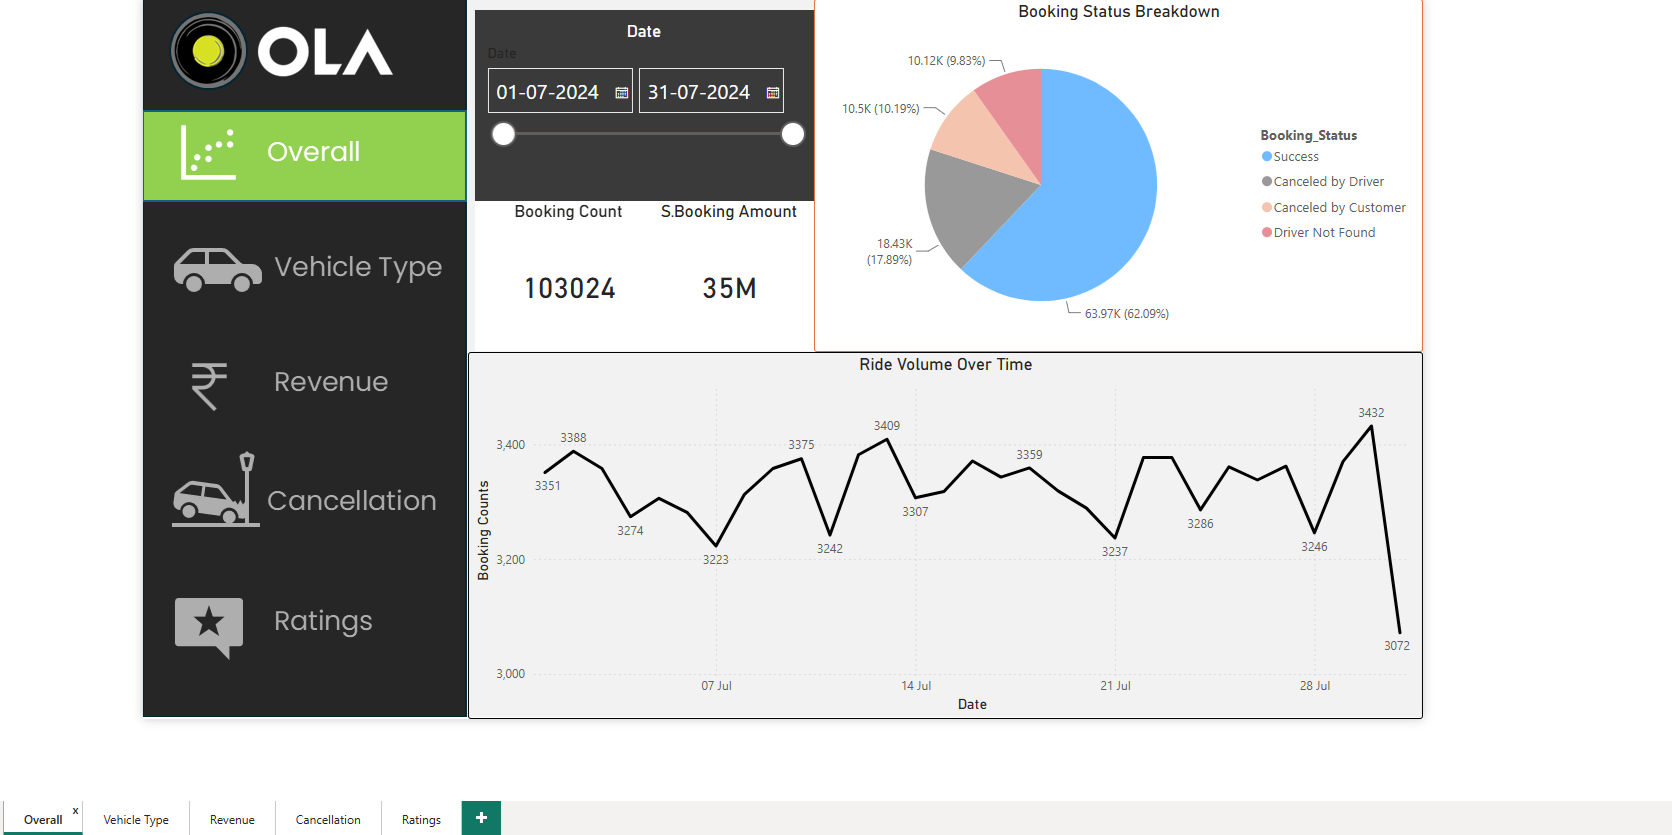

This screenshot's page, from the dashboard's own definition file:
{"tool":"powerbi","page":{"name":"Overall","canvas":[1280,720],"ordinal":0},"visuals":[{"type":"actionButton","box":[0,202.1,324.1,128.9],"z":0},{"type":"actionButton","box":[0,331,324.1,101.1],"z":1000},{"type":"actionButton","box":[0,432.1,324.1,131.3],"z":2000},{"type":"actionButton","box":[0,563.3,324.1,131.3],"z":3000},{"type":"lineChart","title":"Ride Volume Over Time","fields":{"Category":["Bookings-100000-Rows.Date"],"Y":["CountNonNull(Bookings-100000-Rows.Booking_ID)"]},"box":[324.5,352.8,955.5,366.9],"z":4000},{"type":"pieChart","title":"Booking Status Breakdown","fields":{"Category":["Bookings-100000-Rows.Booking_Status"],"Y":["CountNonNull(Bookings-100000-Rows.Booking_Status)"]},"box":[671.3,0,608.7,352.9],"z":5000},{"type":"slicer","title":"Date","fields":{"Values":["Bookings-100000-Rows.Date"]},"box":[332.4,10.8,338.9,191],"z":6000},{"type":"card","title":"Booking Count","fields":{"Values":["Count(Bookings-100000-Rows.Booking_ID)"]},"box":[332.4,201.8,187.8,150],"z":7000},{"type":"card","title":"S.Booking Amount ","fields":{"Values":["Sum(Bookings-100000-Rows.Booking_Value)"]},"box":[501.9,201.8,169.4,150],"z":8000}]}

Visuals, with their boxes on the page's 1280x720 design canvas (x1, y1, x2, y2). These are canvas units, not pixel positions in the 1672x835 screenshot, which may show the page scaled, cropped or inside an application window:
actionButton: {"x1": 0, "y1": 202, "x2": 324, "y2": 331}
actionButton: {"x1": 0, "y1": 331, "x2": 324, "y2": 432}
actionButton: {"x1": 0, "y1": 432, "x2": 324, "y2": 563}
actionButton: {"x1": 0, "y1": 563, "x2": 324, "y2": 695}
"Ride Volume Over Time" lineChart: {"x1": 324, "y1": 353, "x2": 1280, "y2": 720}
"Booking Status Breakdown" pieChart: {"x1": 671, "y1": 0, "x2": 1280, "y2": 353}
"Date" slicer: {"x1": 332, "y1": 11, "x2": 671, "y2": 202}
"Booking Count" card: {"x1": 332, "y1": 202, "x2": 520, "y2": 352}
"S.Booking Amount " card: {"x1": 502, "y1": 202, "x2": 671, "y2": 352}
